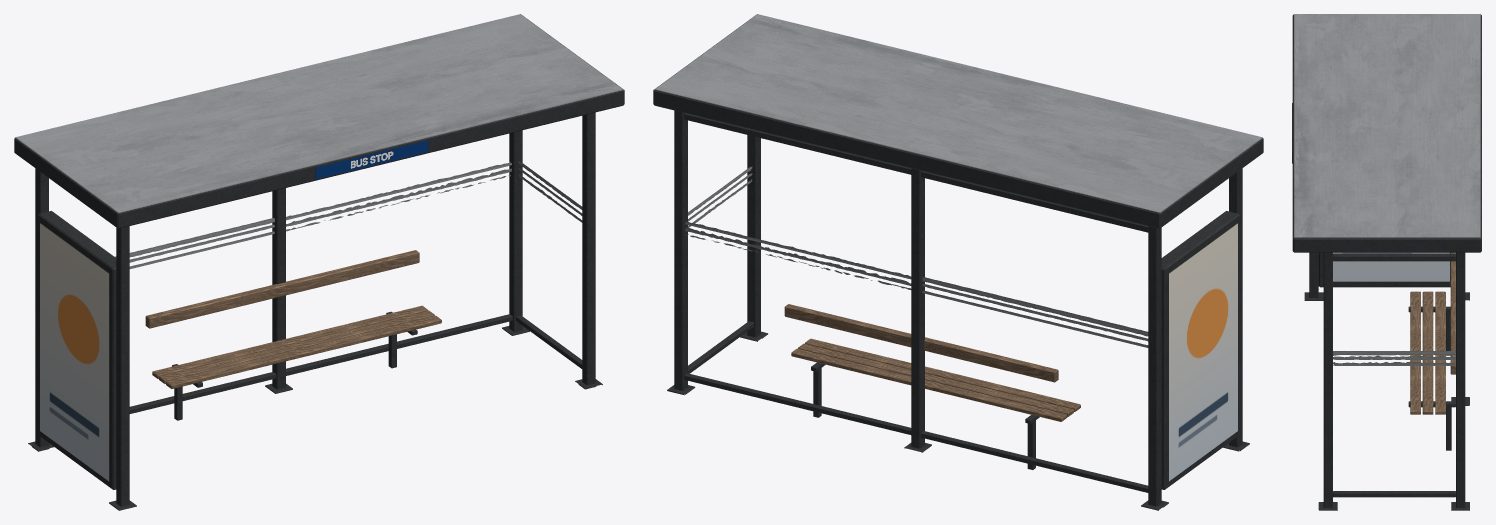
File: v3_bus_shelter.fbx
3 views of the same model, side by side, from view 1: azimuth 30°, elevation 25°; view 2: azimuth 150°, elevation 25°; view 3: azimuth 270°, elevation 25° (orthographic). The views are drawn at different scales.
Parts seen in each view (by area): view 1: v3_bus_shelter_LOD0; view 2: v3_bus_shelter_LOD0; view 3: v3_bus_shelter_LOD0.
Part boxes in pixels (bbox=[...]): v3_bus_shelter_LOD0: bbox=[14, 14, 624, 510]; v3_bus_shelter_LOD0: bbox=[653, 14, 1263, 510]; v3_bus_shelter_LOD0: bbox=[1292, 14, 1481, 510].
Size of what is drawn, in the model's own units: 4.5 by 2.58 by 1.61.
